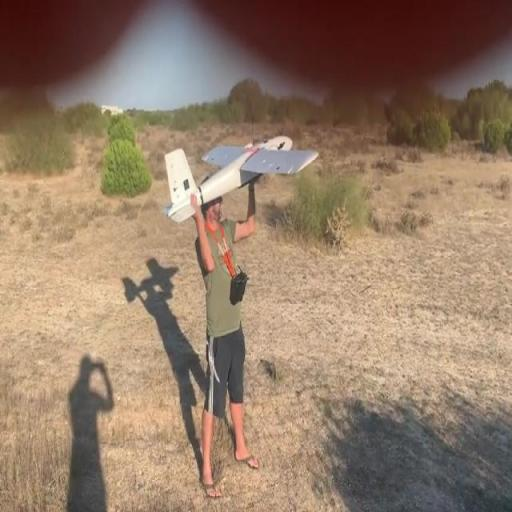uav: (162, 118, 318, 228)
